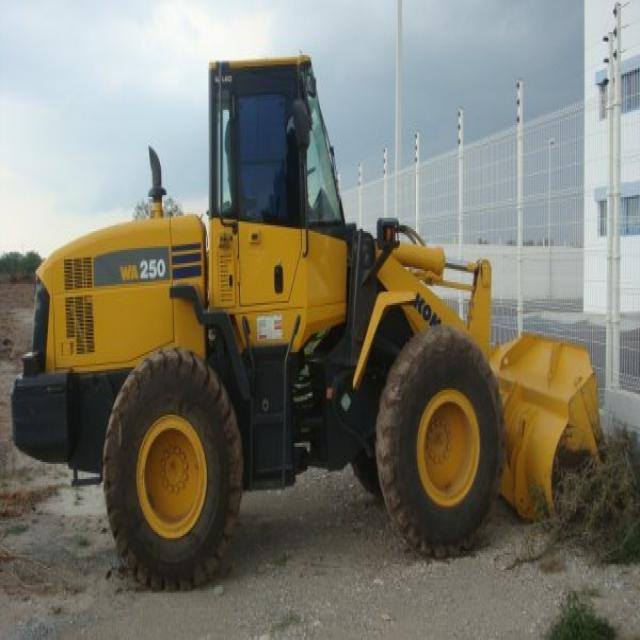buldozerpayloadergrader: (8, 52, 604, 589)
